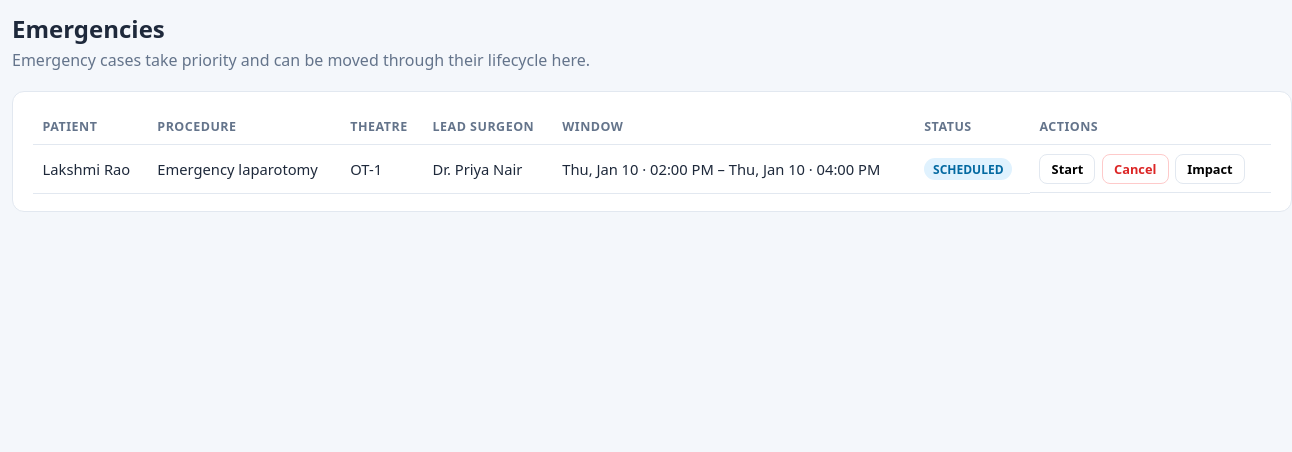
Test: EmergenciesPage › lists affected surgeries for an emergency (TC-EMG-03)
The image size is (1292, 452).
Click the button "Impact".
click(1210, 169)  # box [1175,154,1245,184]
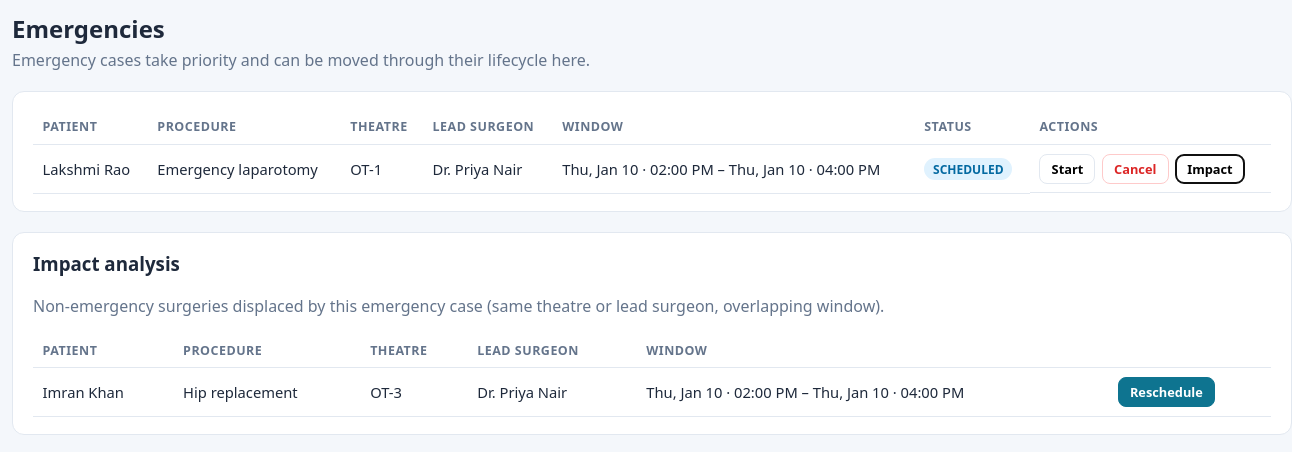
Check: the text "Imran Khan" is shown, box [33,368,174,416]
Check: the button "Reschedule" is shown, box [1118,377,1215,407]
